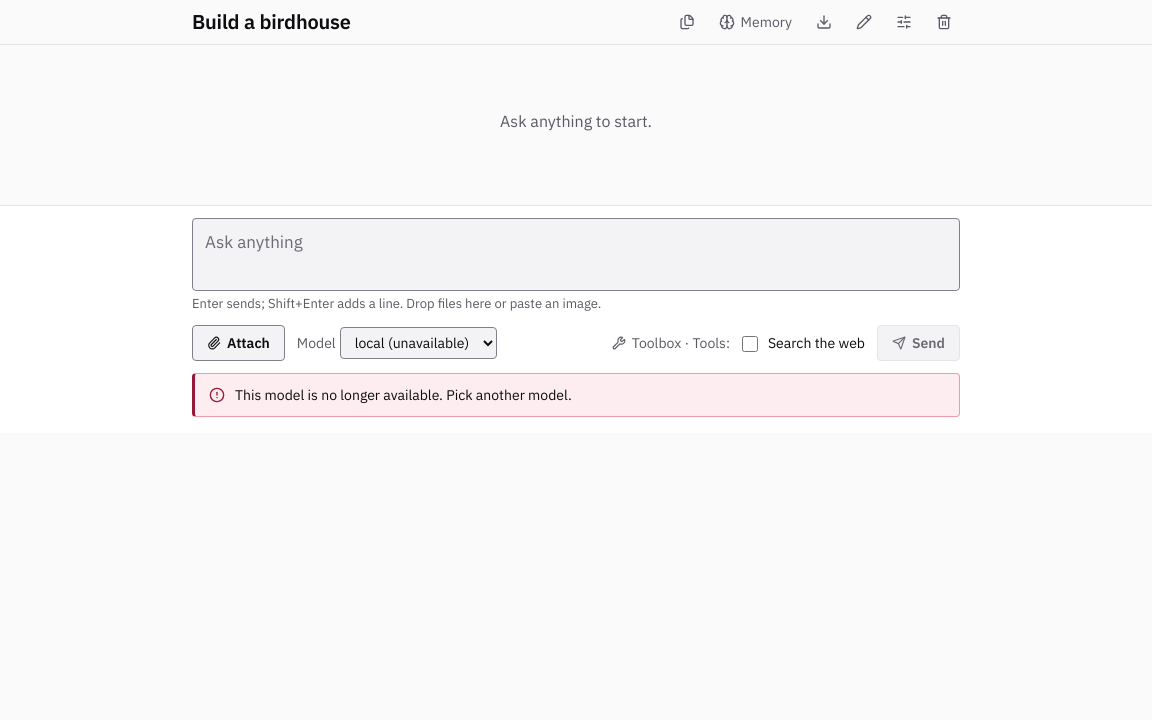
Test: offers Dismiss, not Reload chat, after a failed delete
Click the button named "Delete this chat".
click(944, 22)  # box [928, 6, 960, 38]
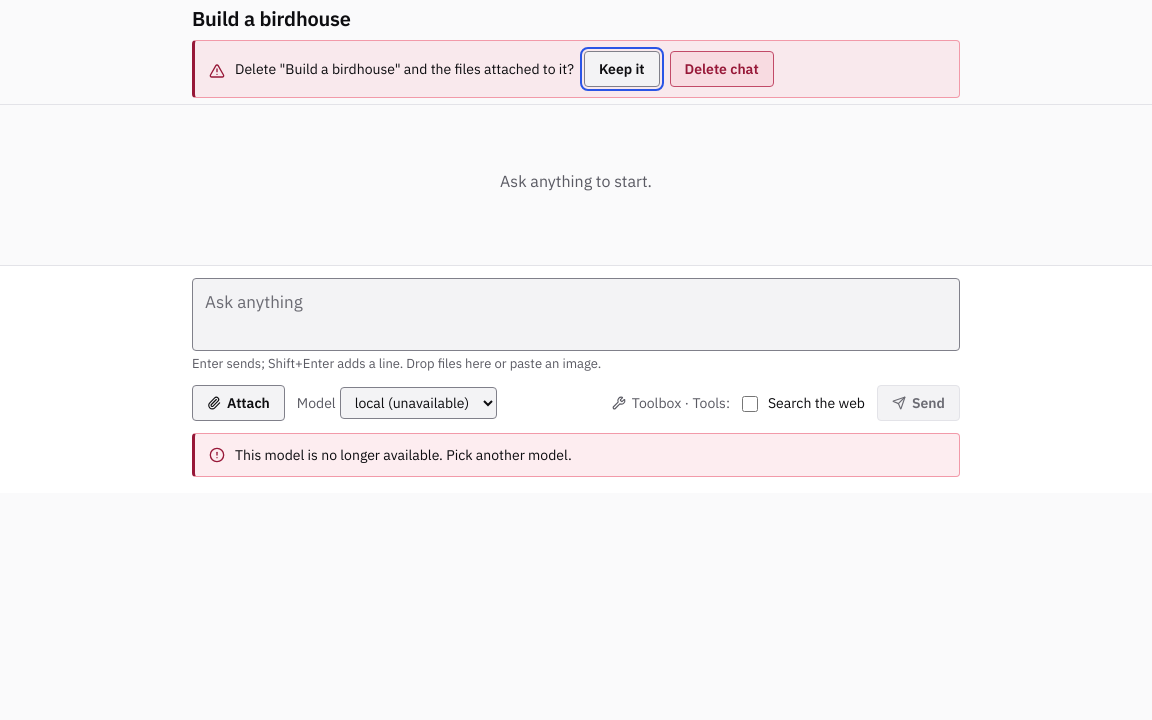
Click the button "Delete chat".
click(722, 69)  # box [670, 51, 774, 87]
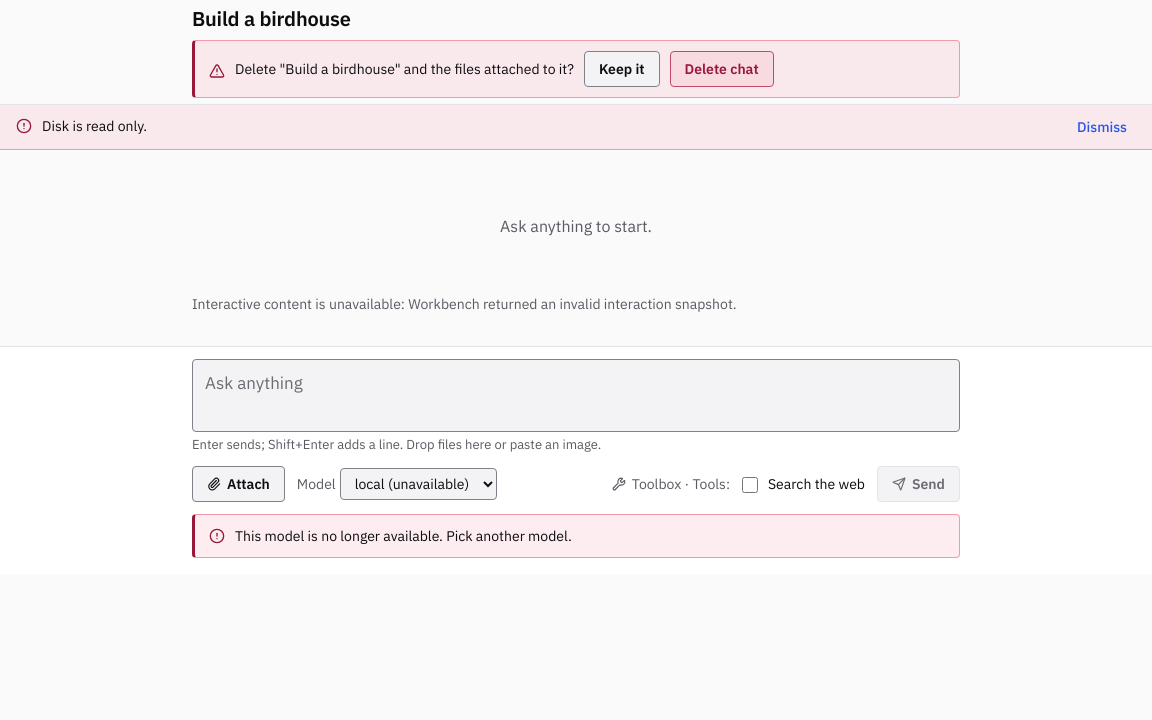
Click the button "Dismiss".
click(1102, 127)  # box [1068, 111, 1136, 143]
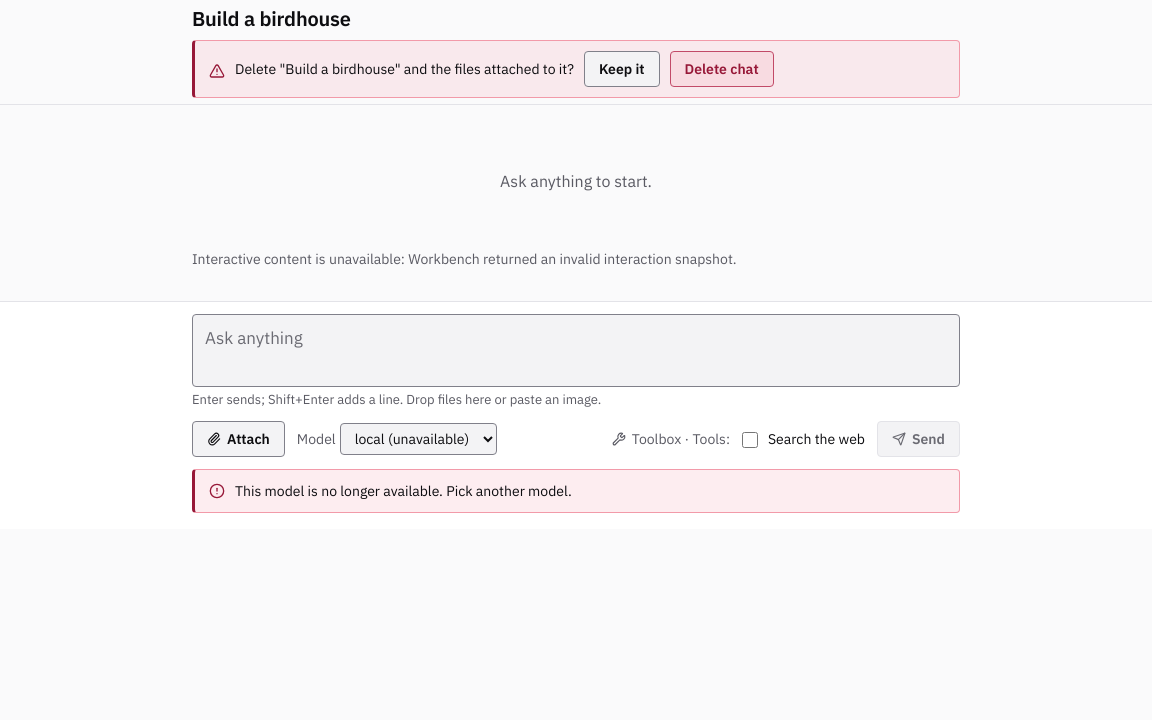
Now the text "Disk is read only." is gone
